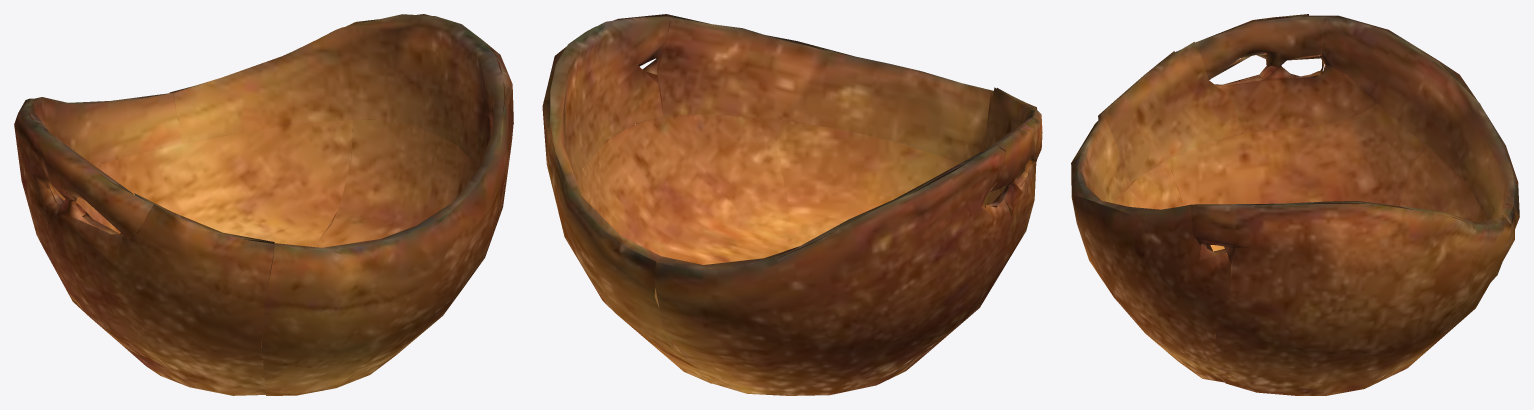
The model's file is wooden_bowl_02.glb.
The picture shows the model from 3 angles, left to right: view 1: azimuth 30°, elevation 25°; view 2: azimuth 150°, elevation 25°; view 3: azimuth 270°, elevation 25°; orthographic projection. The views are drawn at different scales.
Parts seen in each view (by area): view 1: wooden_bowl_02; view 2: wooden_bowl_02; view 3: wooden_bowl_02.
Boxes of the visible parts, x1,y1,x2,y2 form: wooden_bowl_02: (14, 14, 513, 395); wooden_bowl_02: (542, 14, 1042, 395); wooden_bowl_02: (1071, 14, 1519, 395).
Bounding box in the file's own units: 0.1302 × 0.0735 × 0.1243.
1 material, 1 textured.
